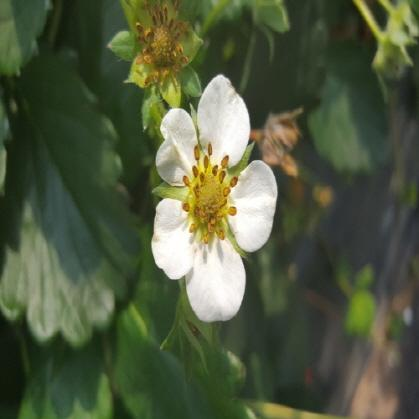Blossom Blight: (177, 139, 244, 247), (130, 0, 192, 93)
